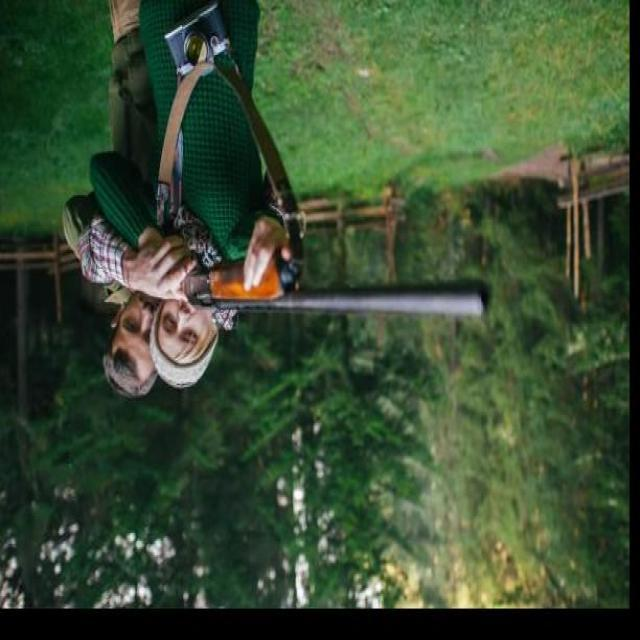weapon: (182, 254, 490, 318)
